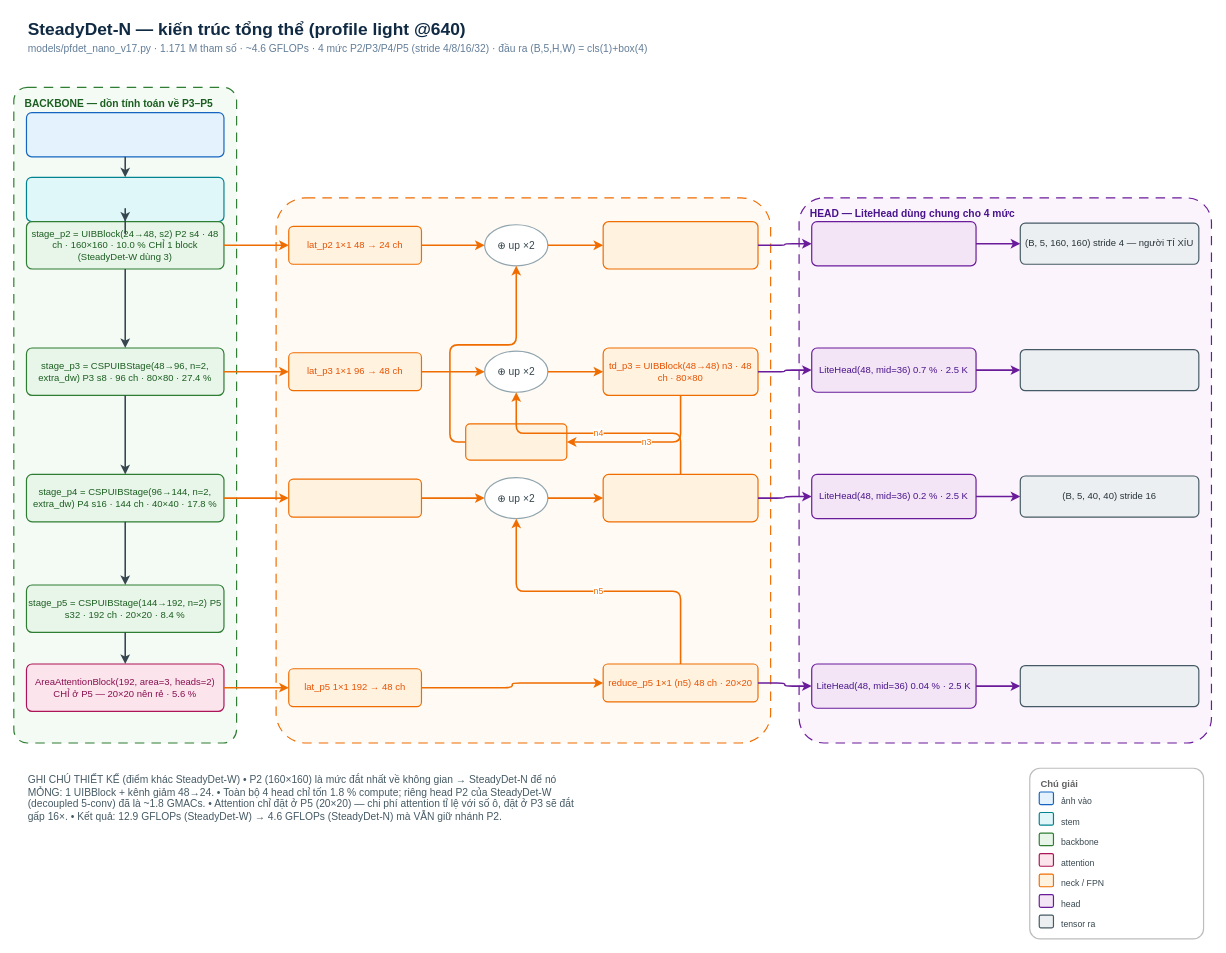
This 1226x953 diagram has some shape labels left out. Here are the shapes that lost their labels. From the top down, the box of each, then its label:
(26, 112, 224, 157): Ảnh vào 1 × 3 × 640 × 640
(26, 176, 224, 222): EdgeContextStem → P1 s2 24 ch · 320×320 · 12.2 % compute
(602, 221, 758, 269): td_p2 = UIBBlock(24→24) n2 · 24 ch · 160×160
(811, 221, 976, 266): LiteHead(24, mid=18) 0.9 % compute · 0.8 K tham số
(1019, 349, 1199, 391): (B, 5, 80, 80) stride 8
(465, 423, 567, 460): p3_to_p2 1×1 48 → 24 ch
(275, 197, 771, 743): NECK — FPN top-down một chiều, P2 đi kênh GIẢM
(288, 478, 422, 517): lat_p4 1×1 144 → 48 ch
(602, 473, 758, 522): td_p4 = UIBBlock(48→48) n4 · 48 ch · 40×40
(1019, 665, 1199, 707): (B, 5, 20, 20) stride 32 — người TO/GẦN
